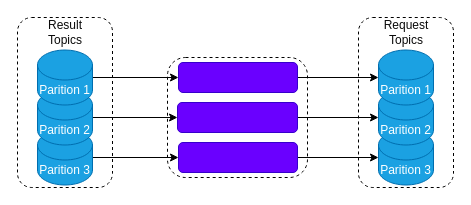
The diagram is 471 pixels wide and 205 high, and some of its shapes have lost their labels. Each missing label, with the box of its shape:
Order Service 1: (178, 62, 298, 92)
Order Service 2: (176, 102, 298, 132)
Order Service 3: (178, 142, 298, 172)
